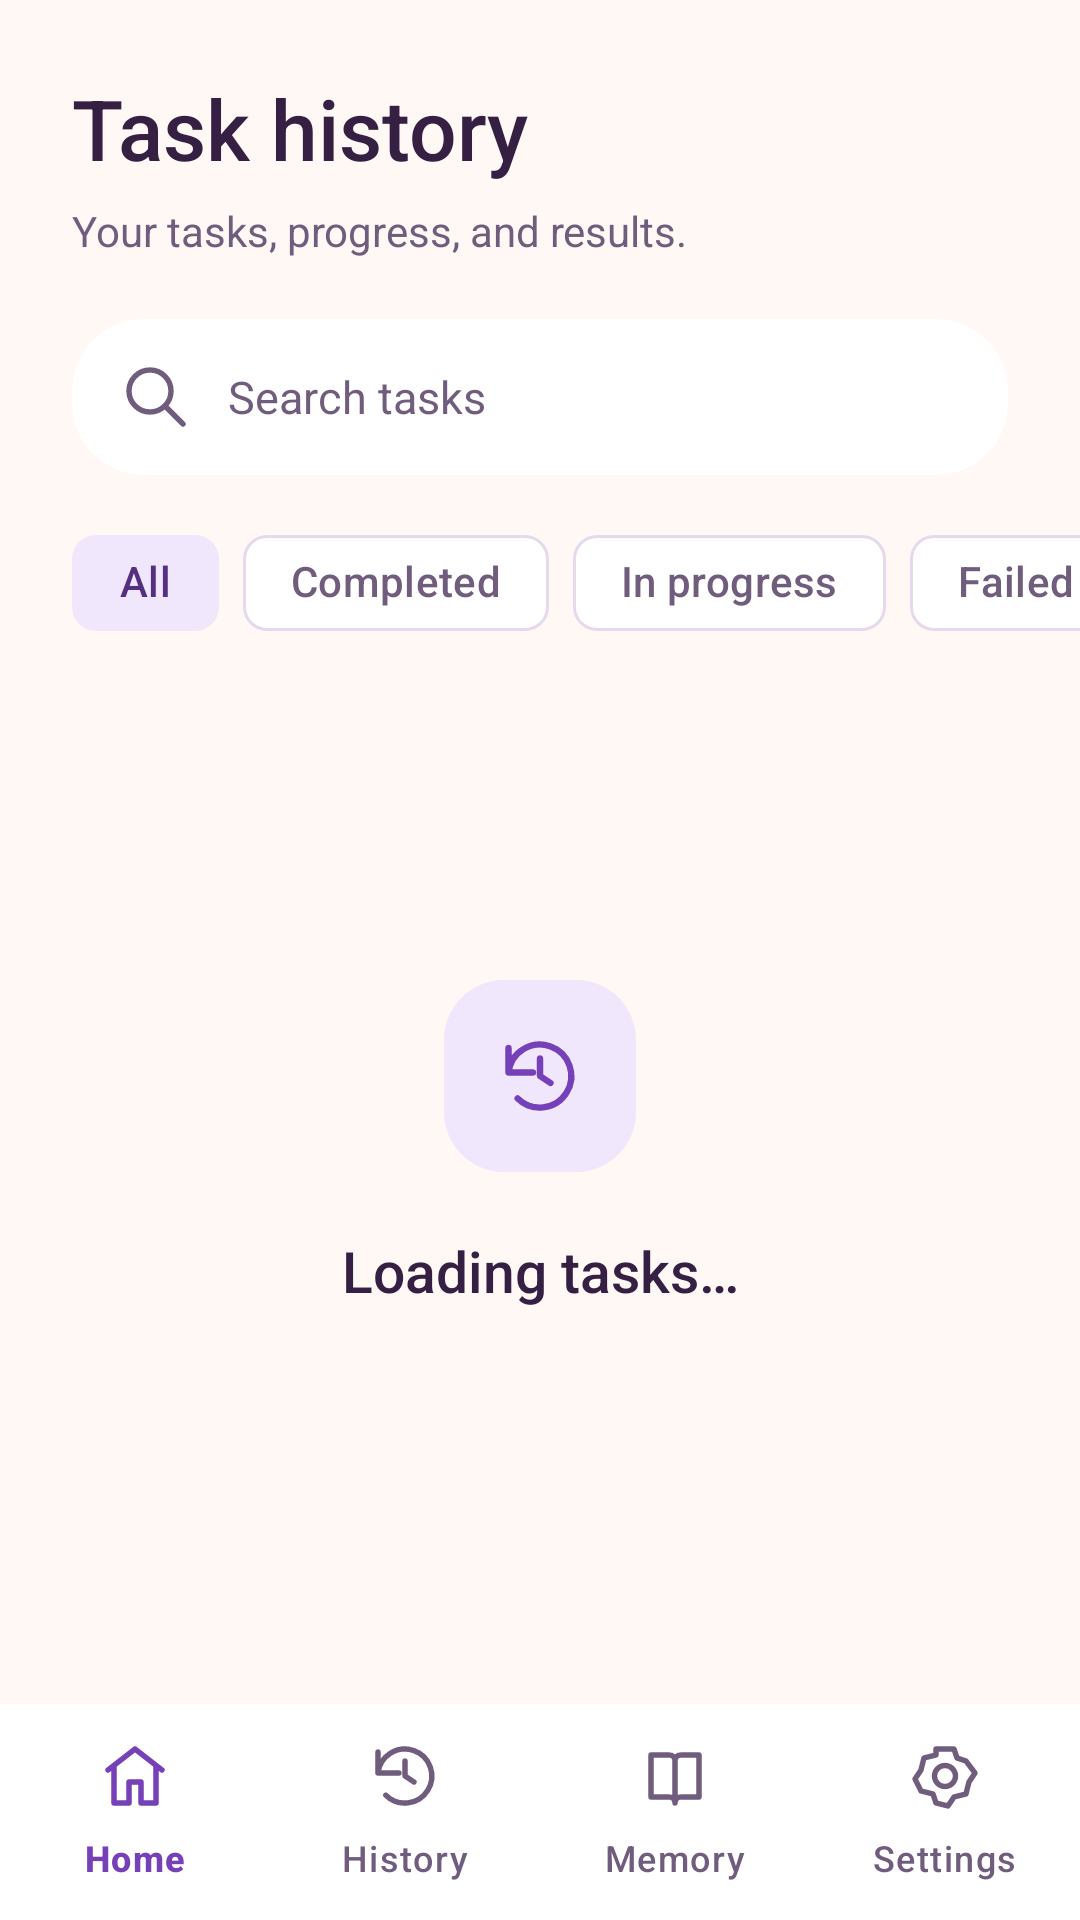

Named icons in this screenshot (1080x1920) and their bounding boxes, (x1, y1, x2, y2):
ui history: (444, 980, 636, 1172)
